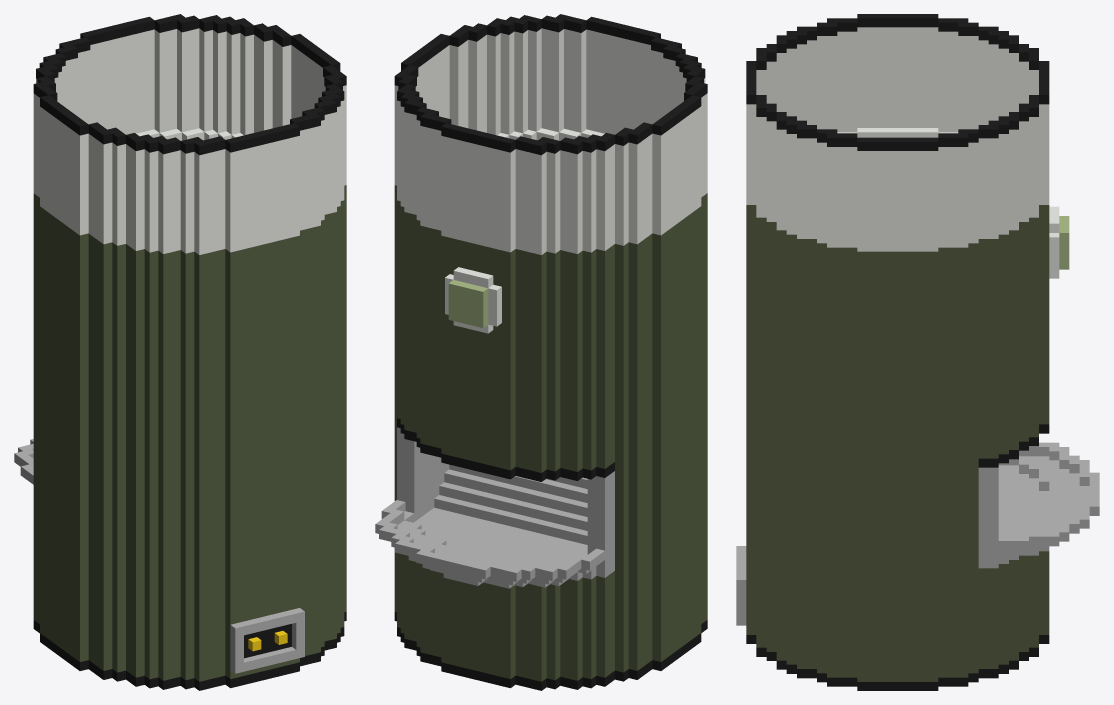
Rendered from CoffeeGrinder.fbx.
The picture shows the model from 3 angles, left to right: view 1: azimuth 30°, elevation 25°; view 2: azimuth 150°, elevation 25°; view 3: azimuth 270°, elevation 25°; orthographic projection.
Parts seen in each view (by area): view 1: CoffeeGrinder; view 2: CoffeeGrinder, CG_Button; view 3: CoffeeGrinder, CG_Button.
Boxes of the visible parts, x1=… form: CoffeeGrinder: x1=14, y1=14, x2=346, y2=690; CoffeeGrinder: x1=375, y1=14, x2=707, y2=690; CG_Button: x1=445, y1=267, x2=501, y2=333; CoffeeGrinder: x1=736, y1=14, x2=1099, y2=690; CG_Button: x1=1049, y1=206, x2=1069, y2=278.
Size of the model in its own units: 30 by 60 by 36.
